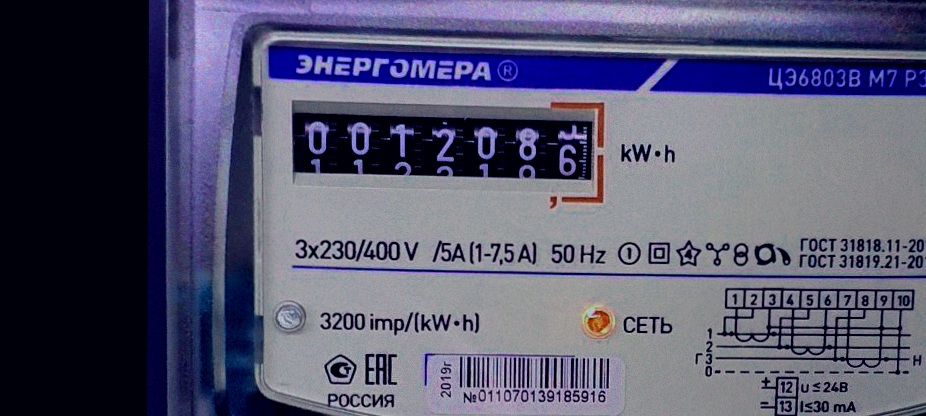0: (304, 117, 330, 156), (348, 119, 372, 156), (473, 124, 497, 160)
1: (390, 120, 411, 160)
2: (432, 126, 458, 164)
6: (555, 141, 578, 177)
8: (514, 125, 539, 162)
screen: (284, 93, 613, 208)
